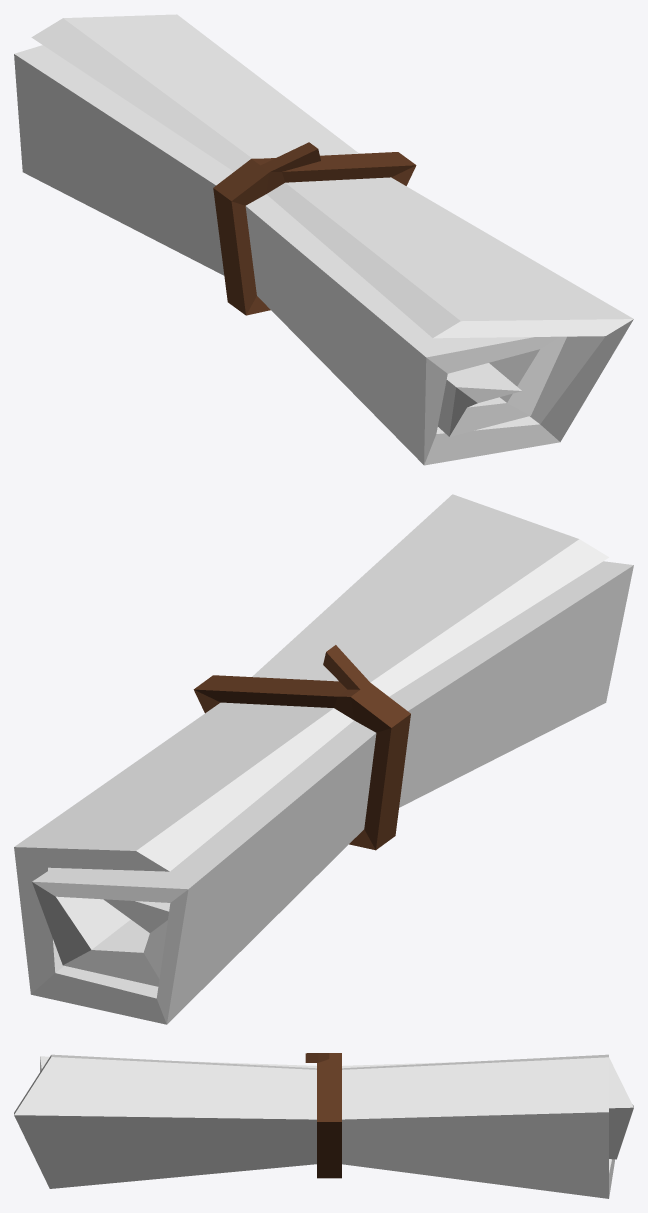
File: paper03.gltf
3 views of the same model, one above another, from view 1: azimuth 30°, elevation 25°; view 2: azimuth 150°, elevation 25°; view 3: azimuth 270°, elevation 25° (orthographic). The views are drawn at different scales.
Parts seen in each view (by area): view 1: Cube; view 2: Cube; view 3: Cube.
Part boxes in pixels (x1,y1,x2,y2): Cube: (14,14,633,465); Cube: (14,494,633,1024); Cube: (14,1053,633,1198).
Size of the model in its own units: 0.0411 by 0.037 by 0.1674.
1 material, 1 textured.
